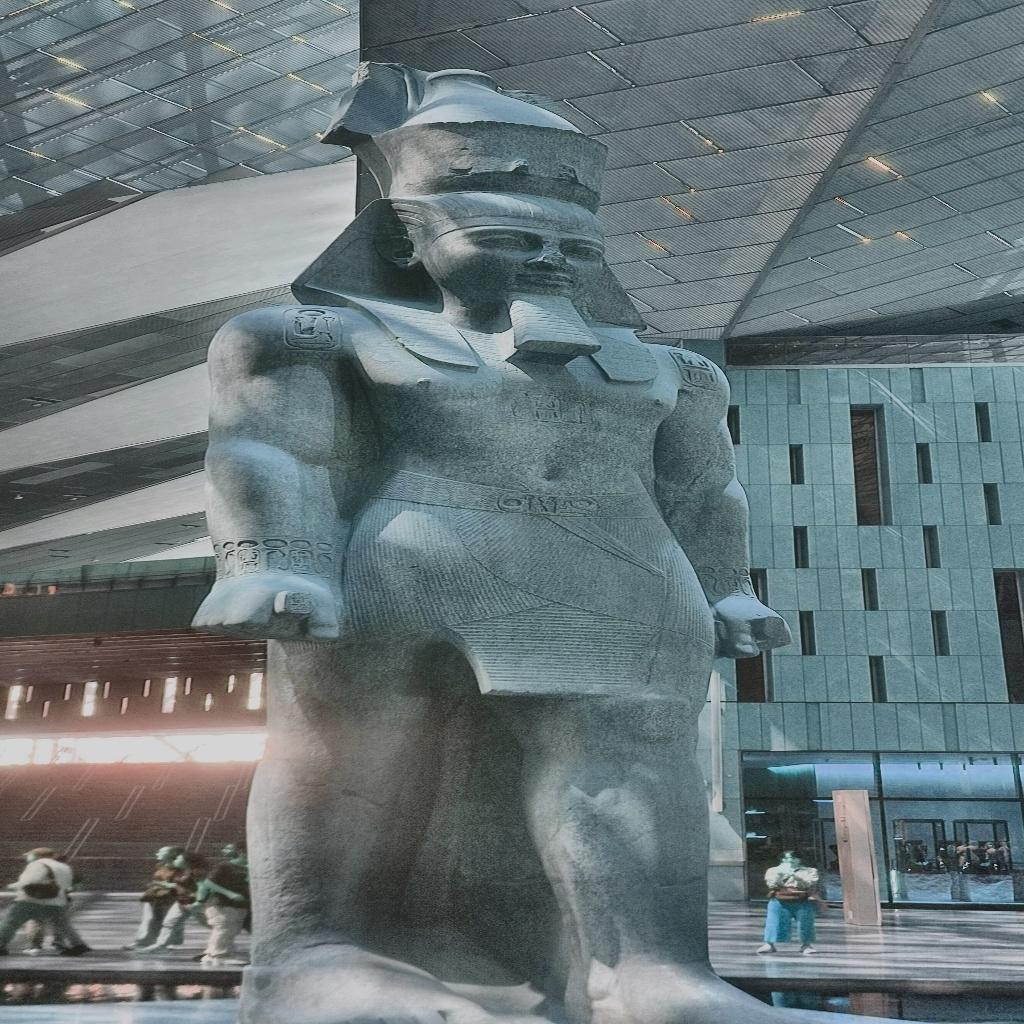Colossal Statue of Ramesses II beloved of Ptah: (184, 60, 900, 1022)
